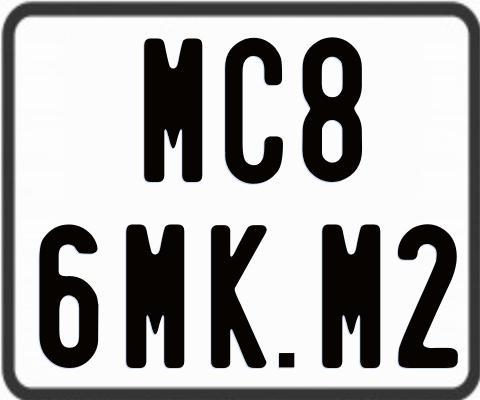2: (396, 222, 462, 366)
6: (38, 225, 98, 373)
8: (299, 35, 361, 184)
C: (225, 36, 284, 183)
K: (211, 224, 268, 368)
M: (142, 38, 203, 185), (320, 222, 382, 366), (126, 223, 185, 367)
